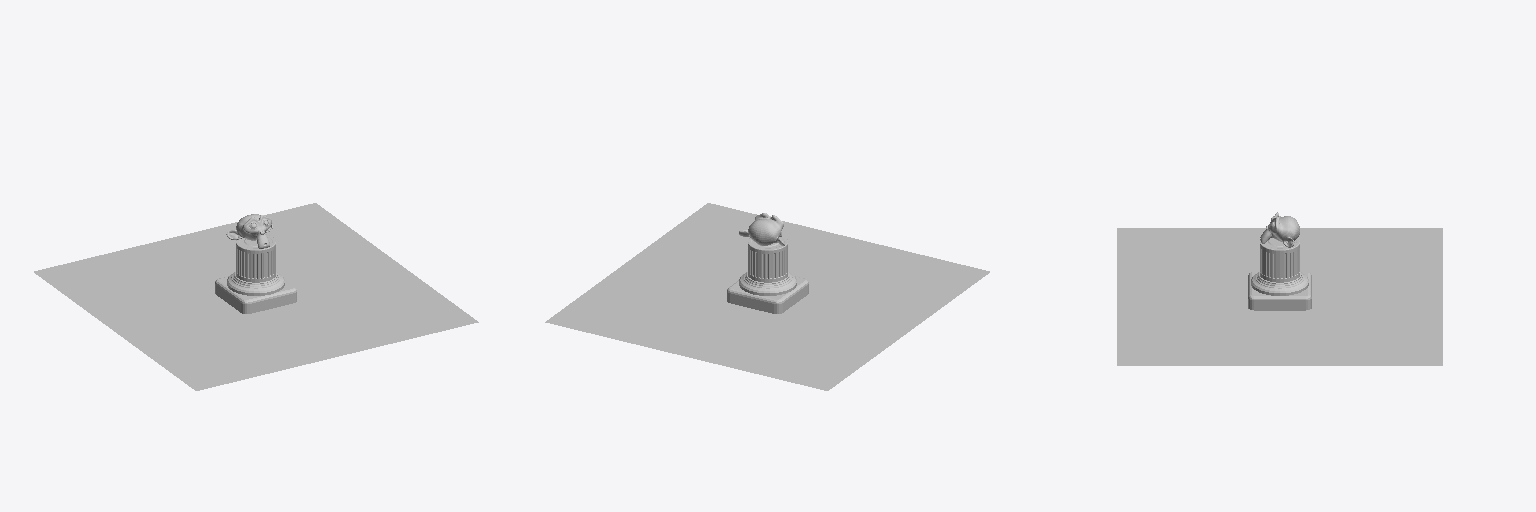
File: suzanne.obj
The picture shows the model from 3 angles: view 1: azimuth 30°, elevation 25°; view 2: azimuth 150°, elevation 25°; view 3: azimuth 270°, elevation 25°; orthographic projection.
Parts seen in each view (by area): view 1: Plane.002, Plane.001, Plane; view 2: Plane.002, Plane.001, Plane; view 3: Plane.002, Plane.001, Plane.
Part boxes in pixels (bbox=[...]): Plane.002: bbox=[34, 203, 478, 390]; Plane.001: bbox=[215, 234, 296, 313]; Plane: bbox=[226, 214, 272, 248]; Plane.002: bbox=[545, 203, 989, 390]; Plane.001: bbox=[727, 236, 808, 313]; Plane: bbox=[739, 213, 784, 245]; Plane.002: bbox=[1117, 228, 1442, 365]; Plane.001: bbox=[1248, 238, 1311, 310]; Plane: bbox=[1260, 212, 1299, 247].
Size of the model in its own units: 6.8 by 1.89 by 6.8.